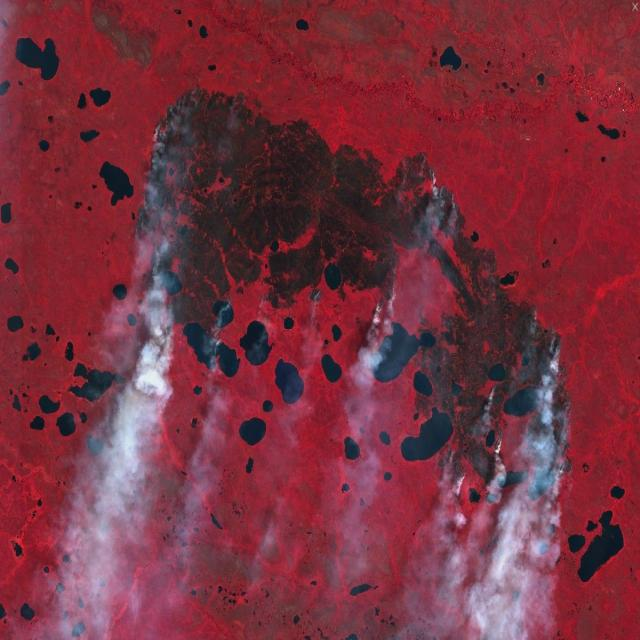fire: (132, 71, 200, 314), (542, 312, 577, 476), (416, 160, 464, 223), (255, 281, 283, 326), (368, 284, 401, 320), (491, 425, 513, 477), (485, 373, 504, 424), (308, 278, 330, 310), (221, 288, 236, 322)
